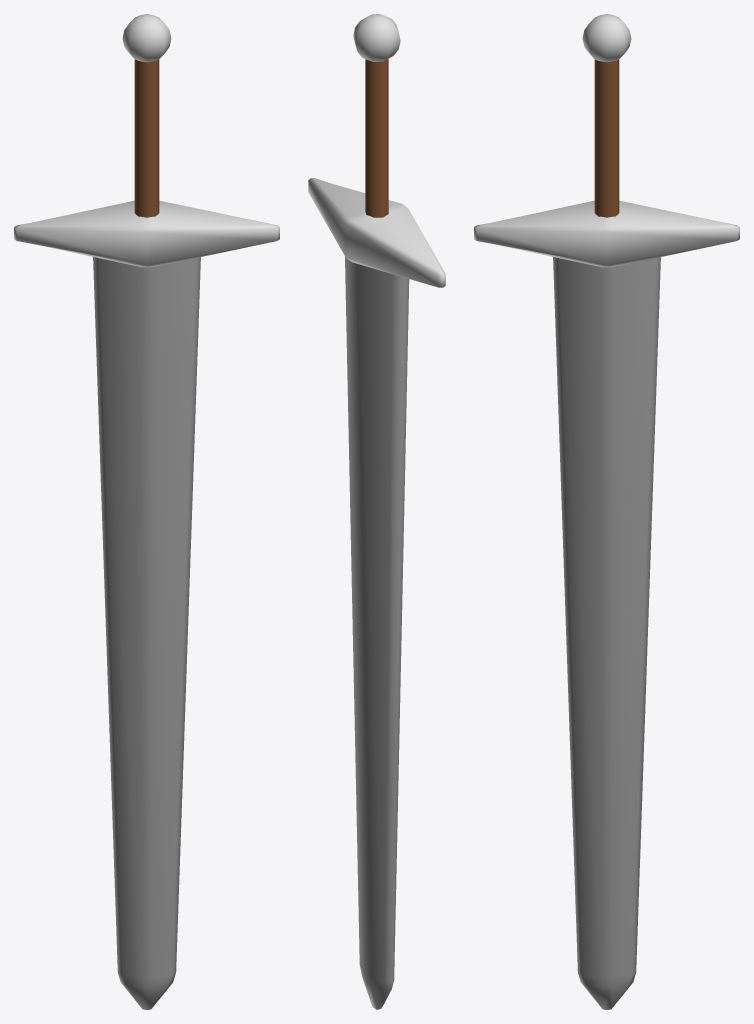
Rendered from sword-1.glb.
3 views of the same model, side by side, from view 1: azimuth 90°, elevation 25°; view 2: azimuth 210°, elevation 25°; view 3: azimuth 270°, elevation 25° (orthographic).
Visible parts, largest first — view 1: Cube, Cube.001, Cylinder, Sphere; view 2: Cube, Cube.001, Cylinder, Sphere; view 3: Cube, Cube.001, Cylinder, Sphere.
Boxes of the visible parts, x1,y1,x2,y2 form: Cube: [93, 257, 200, 1009]; Cube.001: [14, 200, 279, 267]; Cylinder: [134, 59, 159, 217]; Sphere: [122, 14, 171, 62]; Cube: [345, 256, 409, 1009]; Cube.001: [308, 178, 445, 287]; Cylinder: [365, 59, 388, 217]; Sphere: [353, 14, 400, 61]; Cube: [553, 257, 660, 1009]; Cube.001: [474, 200, 739, 267]; Cylinder: [594, 59, 619, 217]; Sphere: [582, 14, 631, 62].
Bounding box in the file's own units: 0.0593 × 0.8918 × 0.2163.
